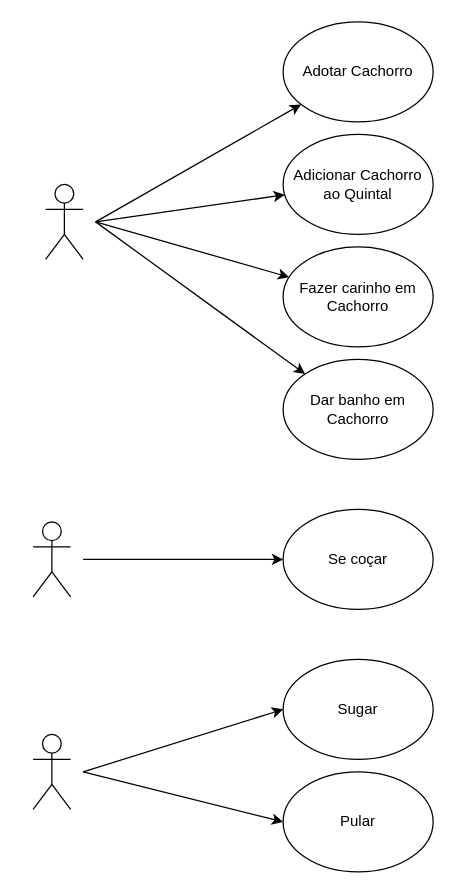
The diagram is 455 pixels wide and 894 high, and some of its shapes have lost their labels. Here are the shapes that lost their labels. From the top down, the centre of each, then its label:
At (x=63, y=221): "Pessoa".
At (x=51, y=559): "Cachorro".
At (x=51, y=771): "Pulga".
